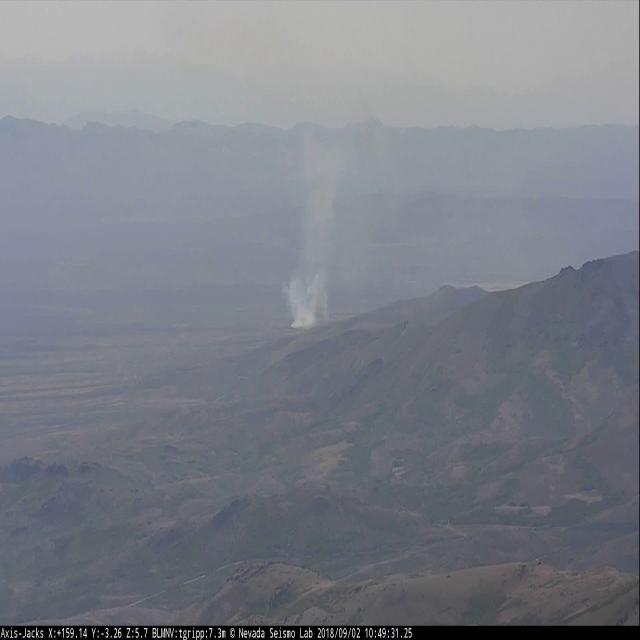smoke: (283, 82, 371, 330)
